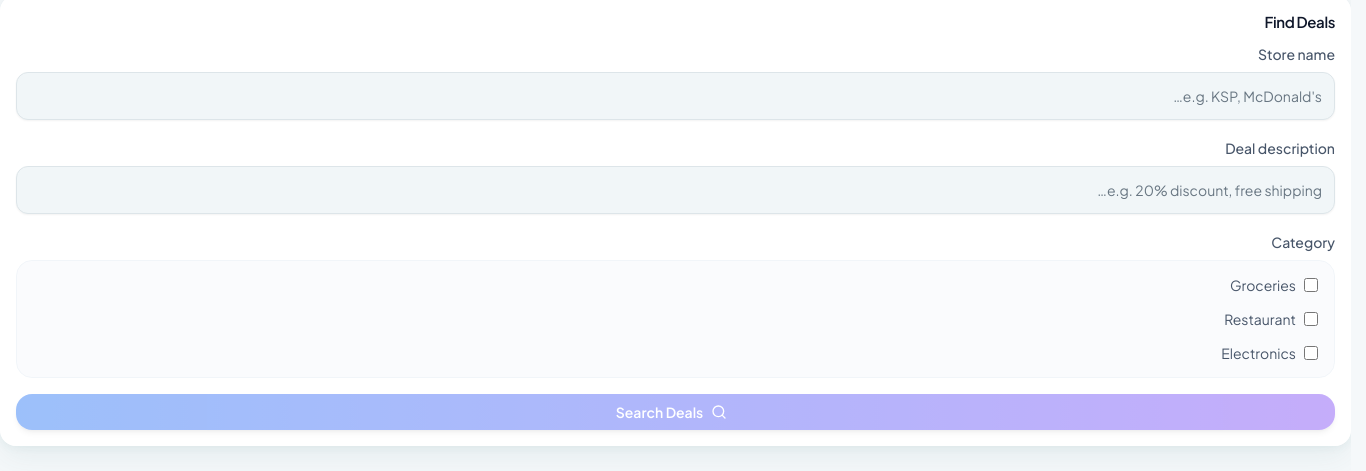
it: DealFilters › shows selected count when categories are checked
Click the checkbox labelled "Groceries" at coordinates (1311, 284), box [1304,278,1318,292]
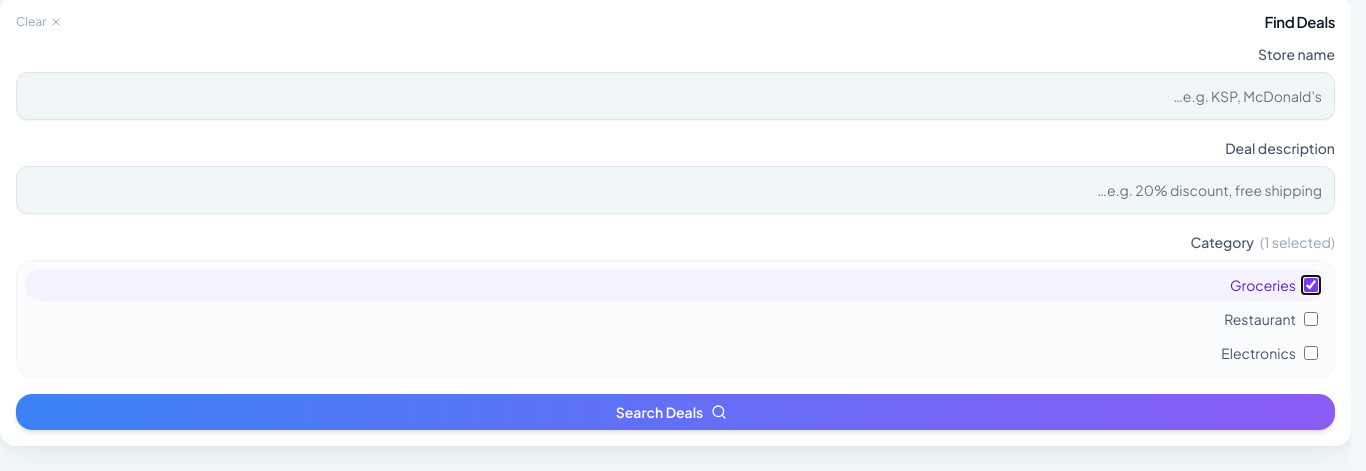
Click the checkbox labelled "Restaurant" at coordinates (1311, 318), box [1304,312,1318,326]
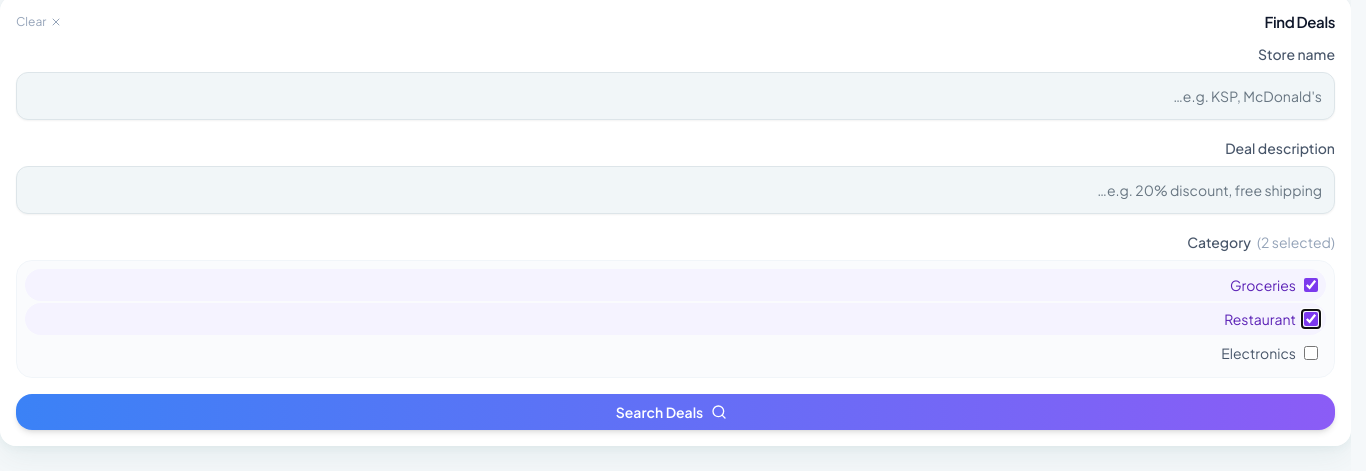
expect the text "(2 selected)" is shown: met, box [1257,232,1335,250]
